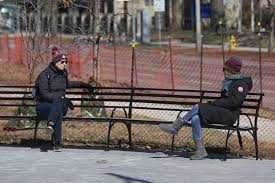Good: (34, 47, 252, 160)
